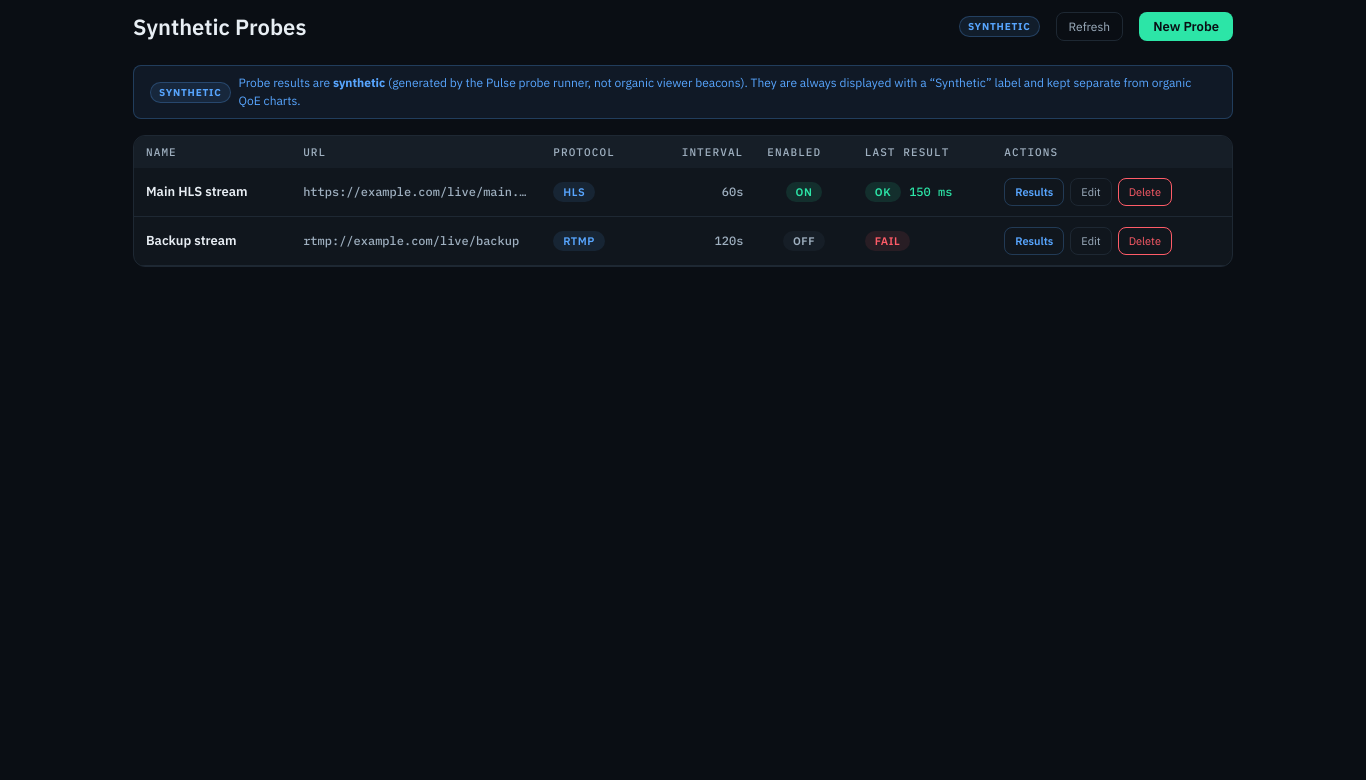
ProbesPage synthetic labeling › shows 'Synthetic' badges in probe results panel
The image size is (1366, 780).
Expected: the text "Main HLS stream" is shown, [134, 168, 291, 216]
// Click Results button for the first probe
Click the button with aria-label "view results for": point(1034, 192) [1004, 178, 1064, 206]
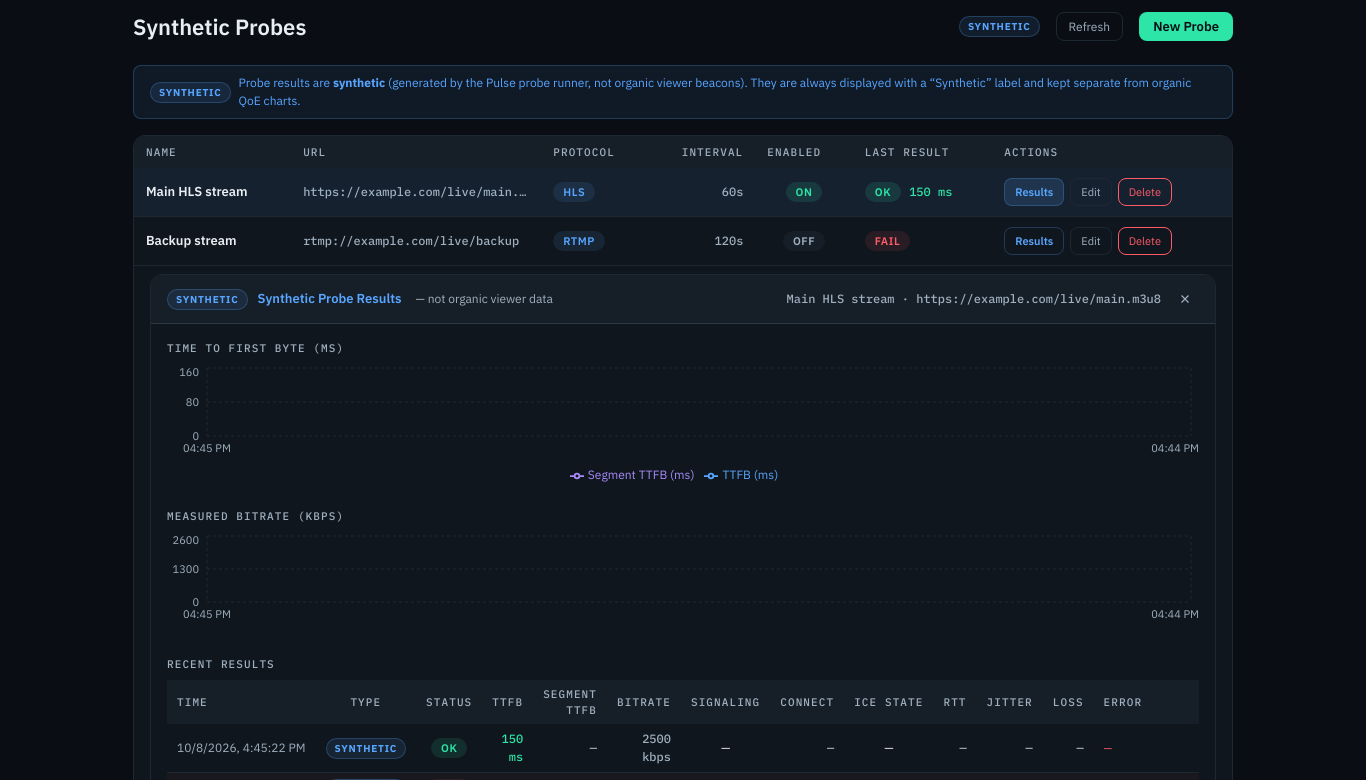
Expected: the text "Synthetic Probe Results" is shown, [258, 289, 402, 309]
